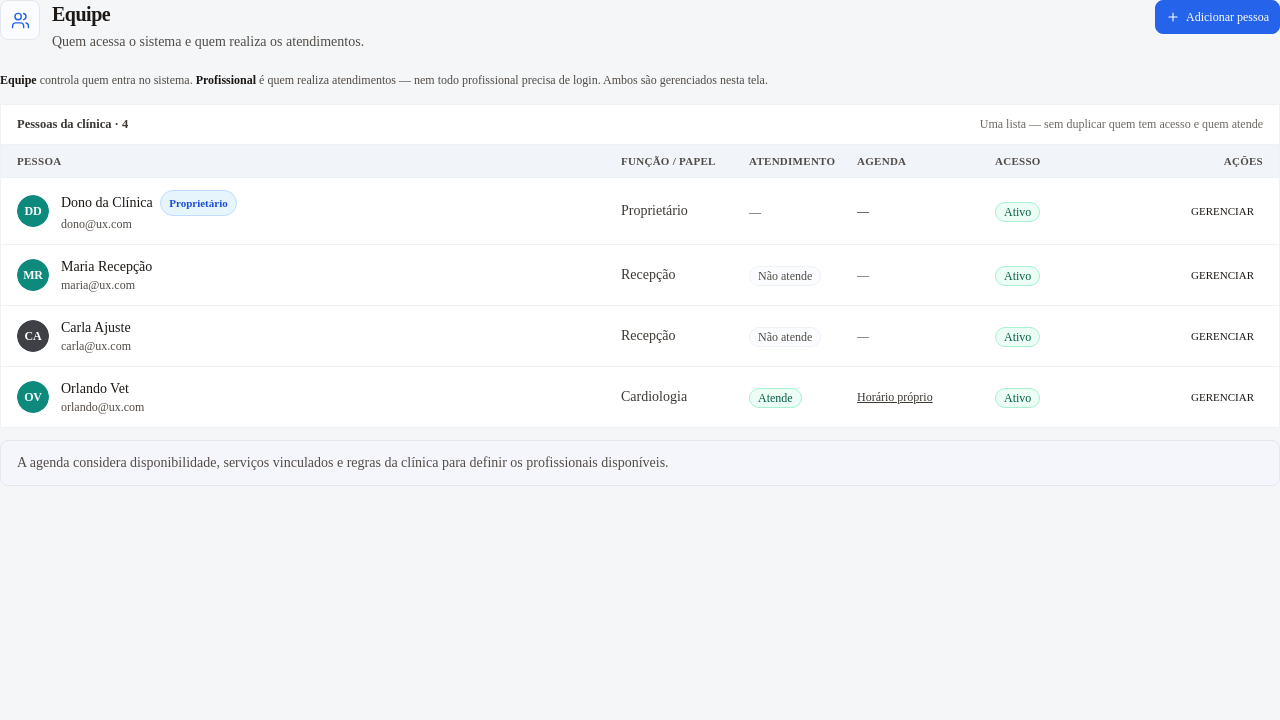
Test: Equipe UX — papéis como presets (render) › Maria — Recepção: preset automático, sem chips `ajuste`, sem Visão geral/Pedidos/Página/Assistente/Atendimento
The image size is (1280, 720).
Click the button "GERENCIAR" in the row of "Maria Recepção" at coordinates (1222, 275), box x1=1182 y1=261 x2=1263 y2=289
(page scrolled)
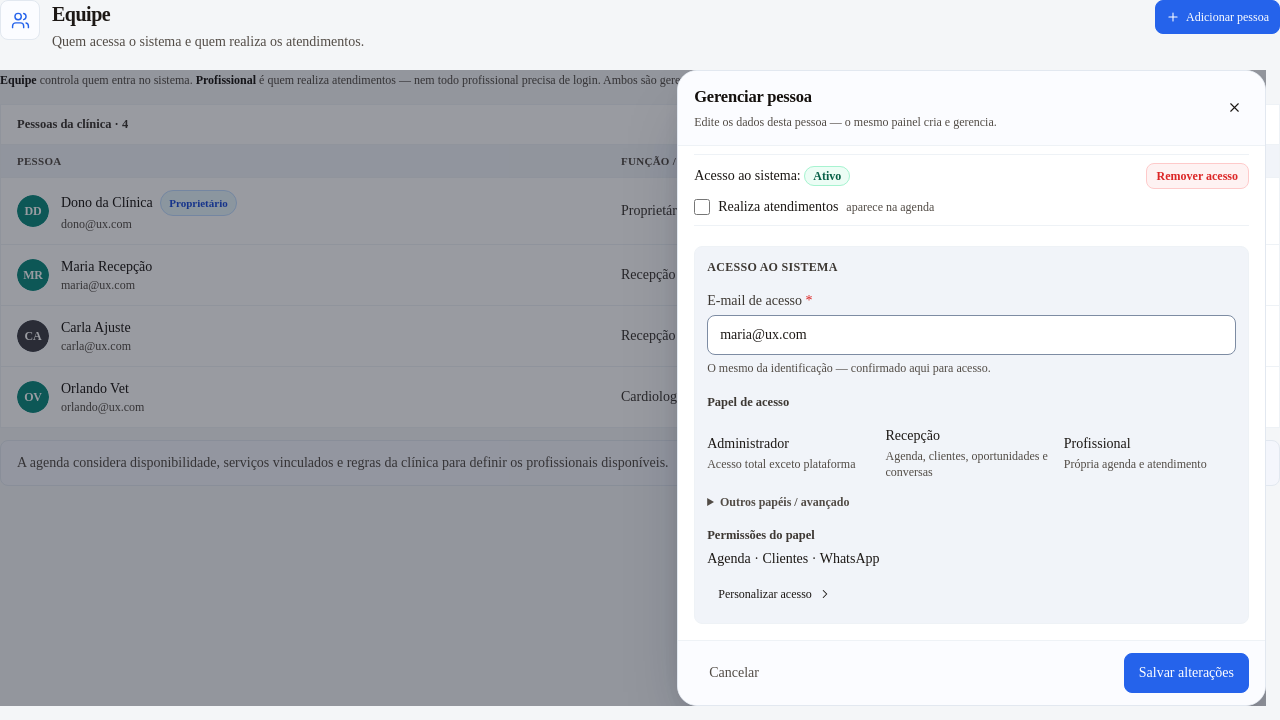
expect the element with test id "preset-summary" shows "Agenda · Clientes · WhatsApp": met, box x1=707 y1=550 x2=880 y2=566
